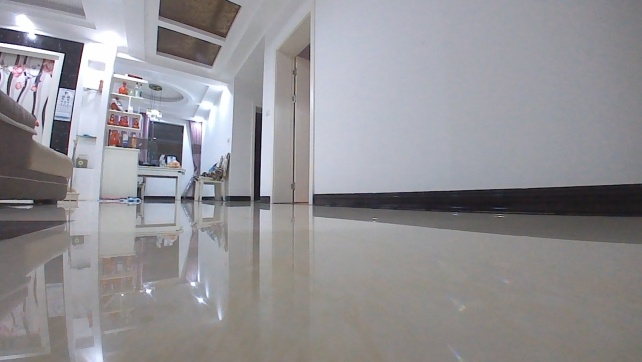sofa1: (0, 85, 76, 211)
